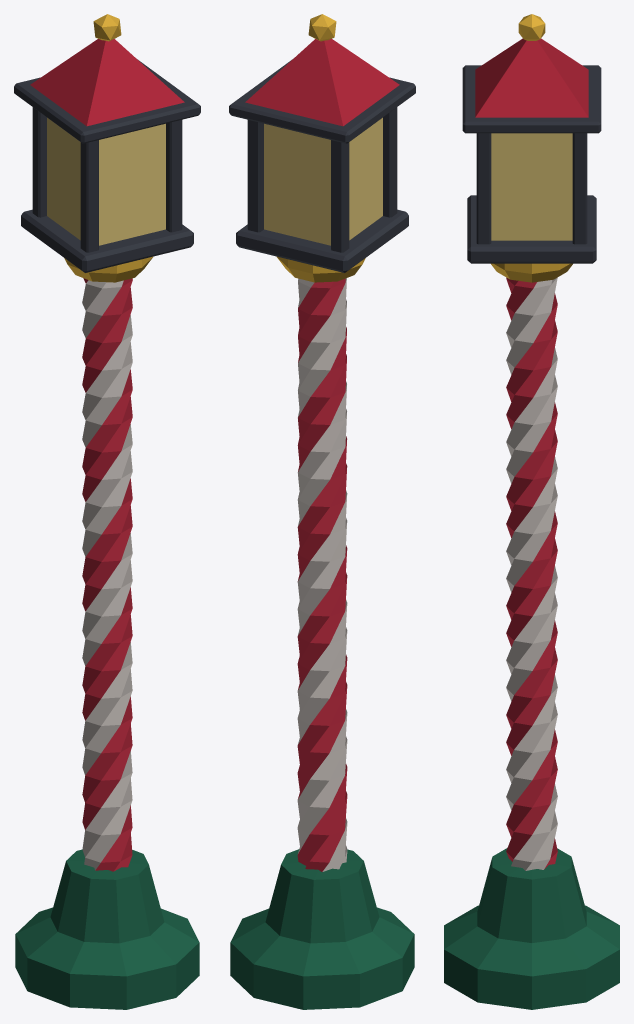
Rendered from LampPost_Candy.glb.
3 renders of one model, left to right at view 1: azimuth 30°, elevation 25°; view 2: azimuth 150°, elevation 25°; view 3: azimuth 270°, elevation 25°, orthographic.
Parts seen in each view (by area): view 1: LampPost_Candy; view 2: LampPost_Candy; view 3: LampPost_Candy.
Part boxes in pixels (left/top/right/bottom): LampPost_Candy: left=14, top=14, right=200, bottom=1009; LampPost_Candy: left=229, top=14, right=415, bottom=1009; LampPost_Candy: left=444, top=14, right=619, bottom=1009.
Bounding box in the file's own units: 2 × 11.42 × 1.9.
